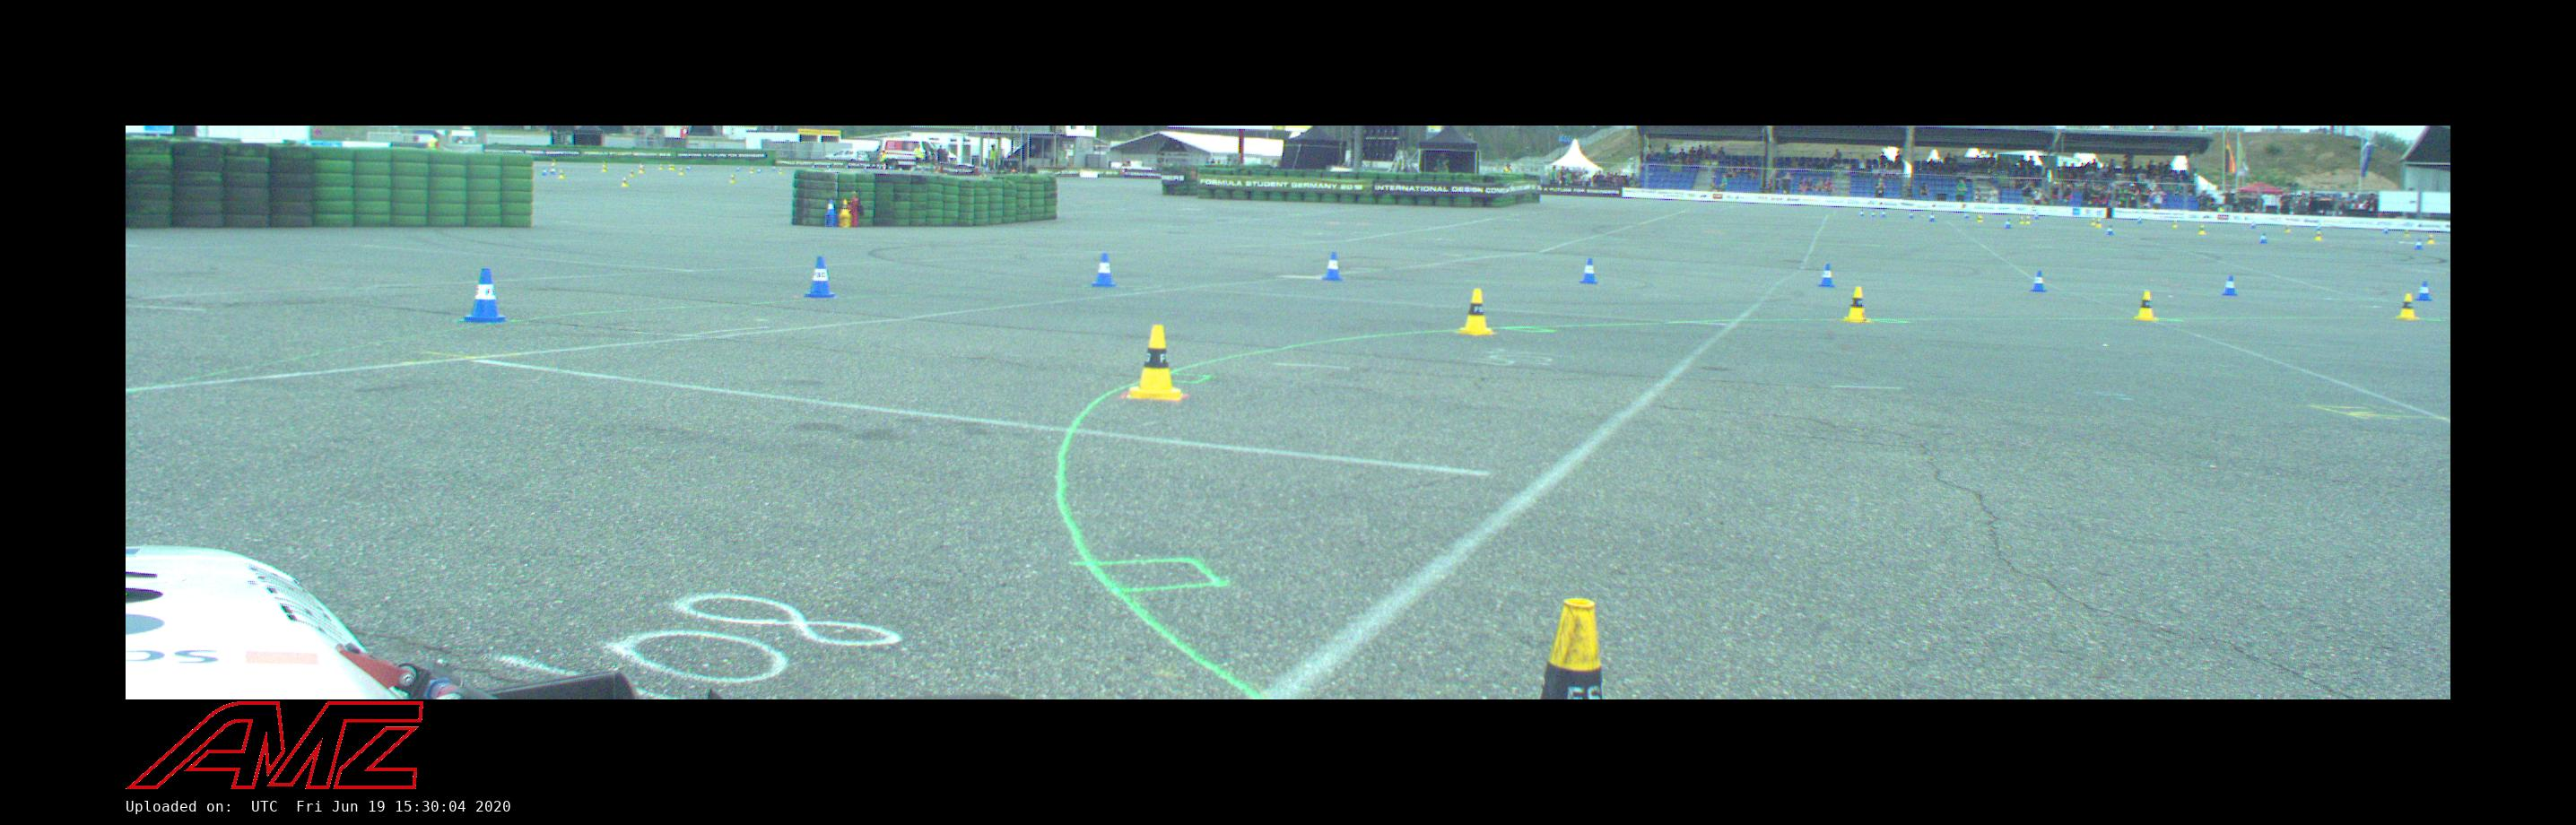blue_cone: (462, 270, 504, 322), (803, 256, 836, 297), (1089, 253, 1117, 286), (1322, 251, 1344, 281), (1579, 258, 1597, 284), (1819, 263, 1835, 288), (2031, 270, 2047, 293), (2415, 281, 2433, 301), (2221, 276, 2238, 296), (825, 199, 838, 215), (2413, 238, 2423, 250), (2105, 225, 2114, 237), (2259, 232, 2267, 243), (2004, 219, 2012, 230), (1929, 212, 1935, 222), (1881, 210, 1888, 219), (542, 168, 549, 176), (1907, 212, 1914, 219), (2251, 222, 2257, 228), (550, 166, 555, 174), (1871, 210, 1876, 219), (1860, 209, 1865, 217), (2137, 217, 2142, 224), (2384, 228, 2389, 233), (2285, 227, 2290, 232)
yellow_cone: (1538, 597, 1603, 698), (1127, 325, 1183, 399), (1456, 288, 1497, 335), (1842, 286, 1871, 322), (2131, 291, 2160, 320), (2395, 293, 2418, 319), (838, 199, 853, 217), (2198, 224, 2206, 235), (2427, 233, 2435, 243), (621, 177, 629, 186), (2095, 219, 2101, 228), (729, 174, 736, 182), (629, 169, 636, 177), (1976, 215, 1985, 222), (2315, 232, 2321, 240), (559, 171, 565, 179), (601, 164, 608, 171), (2172, 222, 2178, 228), (2403, 230, 2408, 237), (639, 166, 644, 173), (2026, 217, 2031, 224), (2019, 217, 2024, 224), (2091, 219, 2095, 227), (679, 169, 683, 174), (670, 164, 675, 169), (659, 164, 664, 169)
